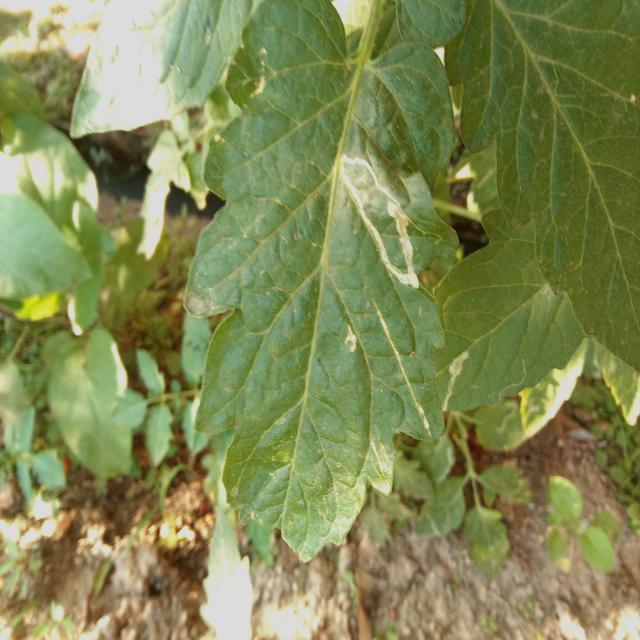Tuta absoluta: (333, 141, 438, 297), (434, 347, 470, 411)
